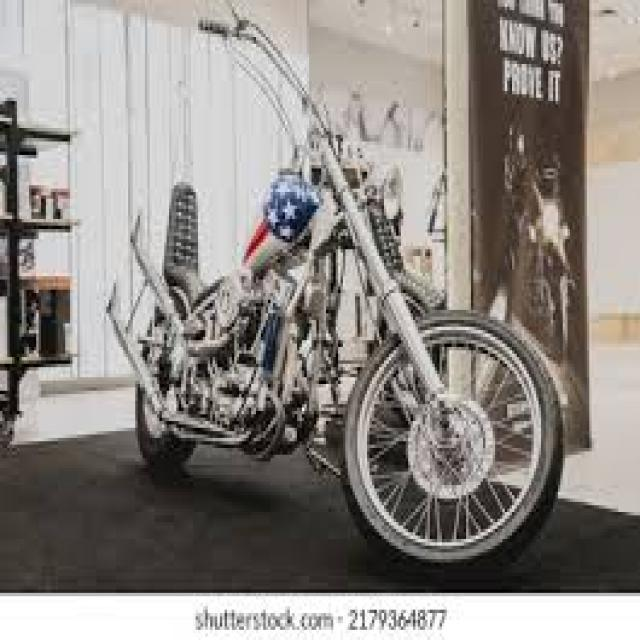Bike: (118, 17, 564, 589)
